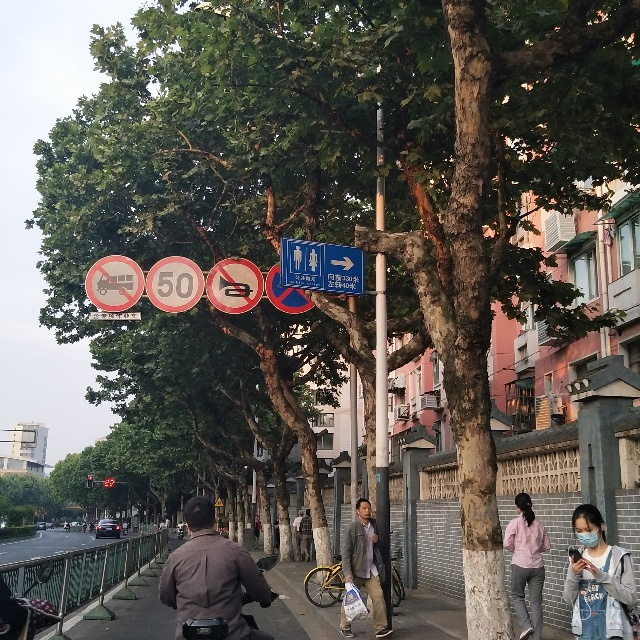nohonk: (205, 251, 267, 317)
stop: (270, 259, 320, 320)
